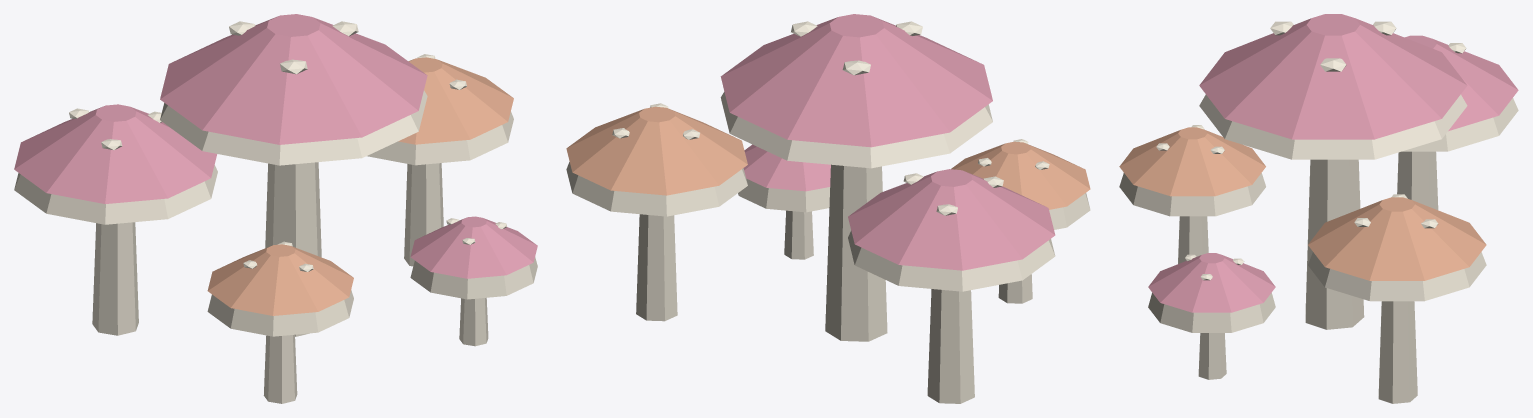
File: world_mushrooms.fbx
The picture shows the model from 3 angles, left to right: view 1: azimuth 30°, elevation 25°; view 2: azimuth 150°, elevation 25°; view 3: azimuth 270°, elevation 25°; orthographic projection. The views are drawn at different scales.
Parts seen in each view (by area): view 1: world_mushrooms_mesh; view 2: world_mushrooms_mesh; view 3: world_mushrooms_mesh.
Boxes of the visible parts, x1,y1,x2,y2 form: world_mushrooms_mesh: (14, 14, 537, 403); world_mushrooms_mesh: (566, 14, 1090, 403); world_mushrooms_mesh: (1119, 14, 1518, 403).
Bounding box in the file's own units: 0.8153 × 0.505 × 0.625.
